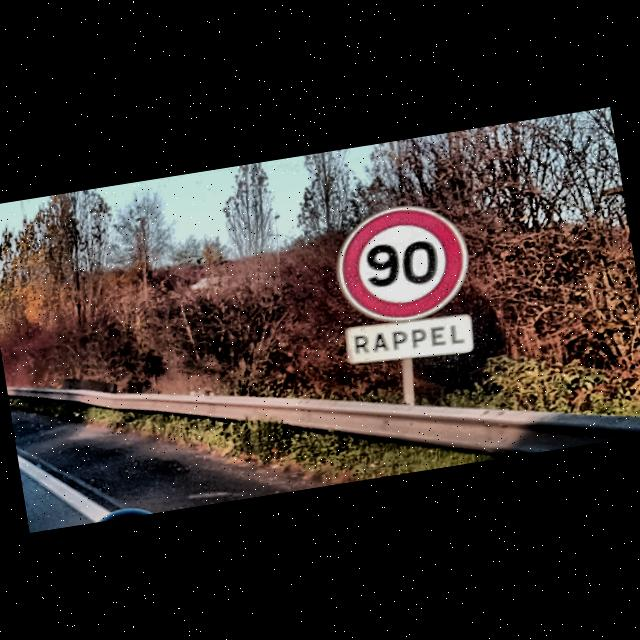speed_90: (328, 197, 478, 332)
